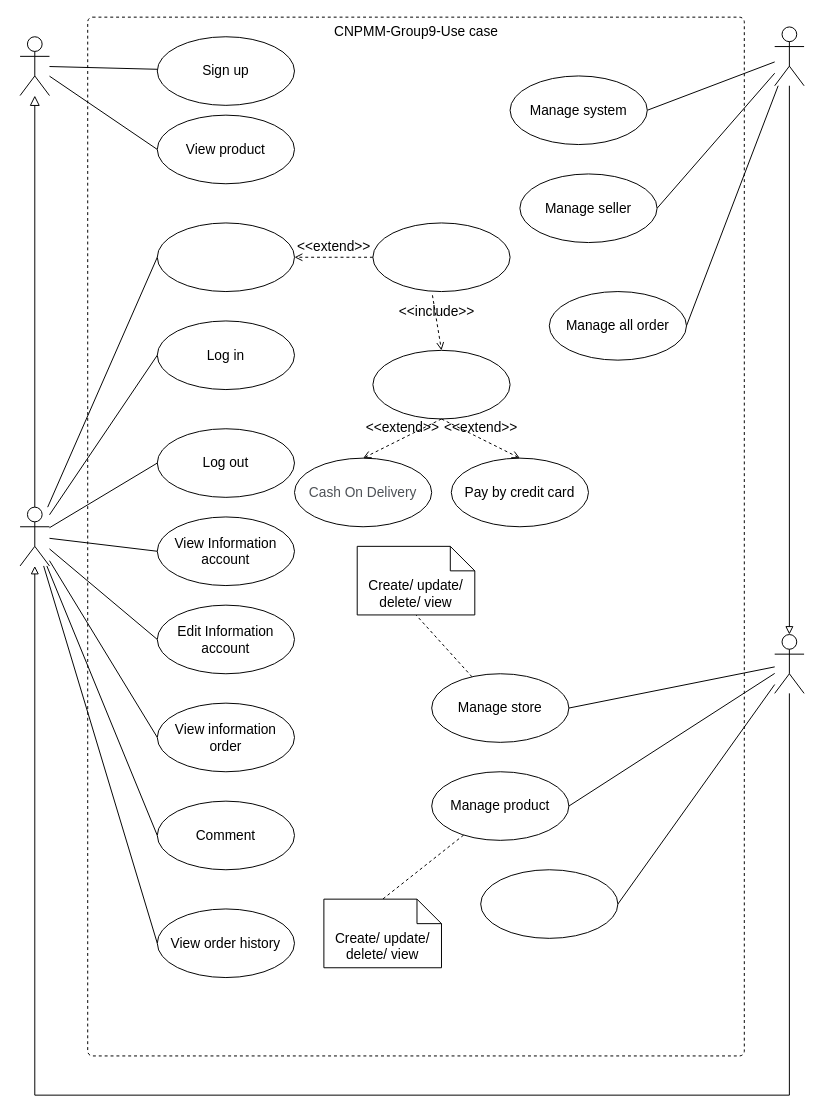
Some shapes in this 826 by 1120 pixel diagram are drawn without their labels. The box of each missing label's shape, as (x1, y1, x2, y2) in pixels:
Add product to cart: (156, 222, 294, 292)
Admin: (774, 26, 804, 86)
Feedback comment: (480, 869, 618, 938)
Guest: (19, 36, 49, 96)
Order: (372, 222, 510, 292)
Pay: (372, 349, 510, 419)
Seller: (774, 634, 804, 693)
User: (19, 506, 49, 566)
